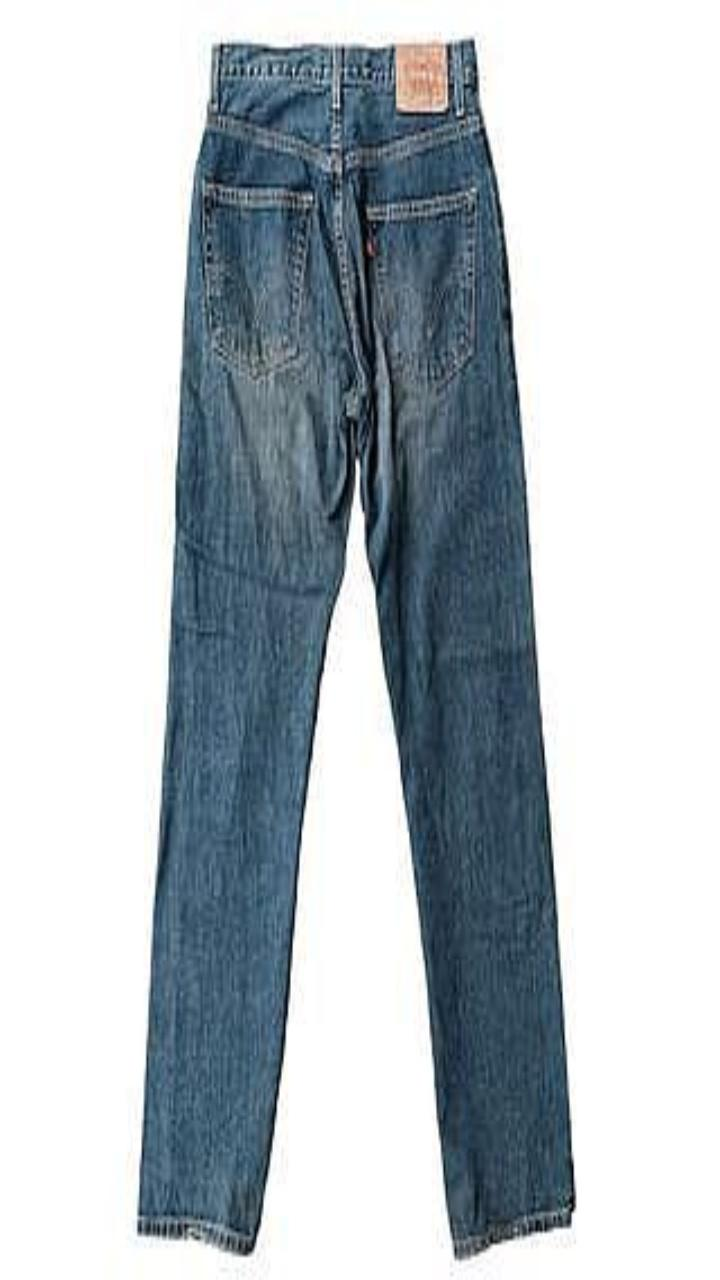Jeans: (139, 39, 573, 1256)
